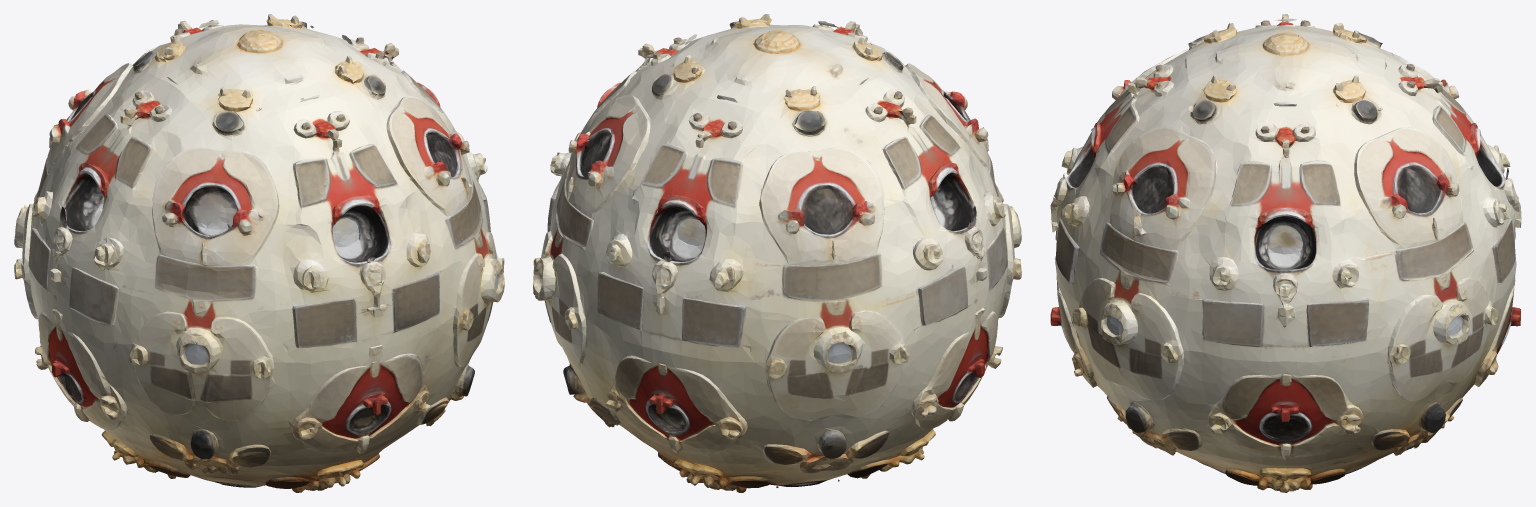
Rendered from training_droid.glb.
3 renders of one model, left to right at view 1: azimuth 30°, elevation 25°; view 2: azimuth 150°, elevation 25°; view 3: azimuth 270°, elevation 25°, orthographic.
Visible parts, largest first — view 1: world; view 2: world; view 3: world.
Boxes of the visible parts, left/top/right/bottom form: world: left=14, top=14, right=504, bottom=492; world: left=533, top=14, right=1021, bottom=492; world: left=1050, top=14, right=1521, bottom=492.
Bounding box in the file's own units: 0.9962 × 0.9978 × 0.9915.
Materials: 1 (1 with a texture image).
